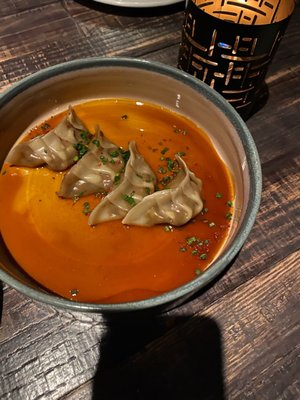sushi: (0, 44, 260, 317)
